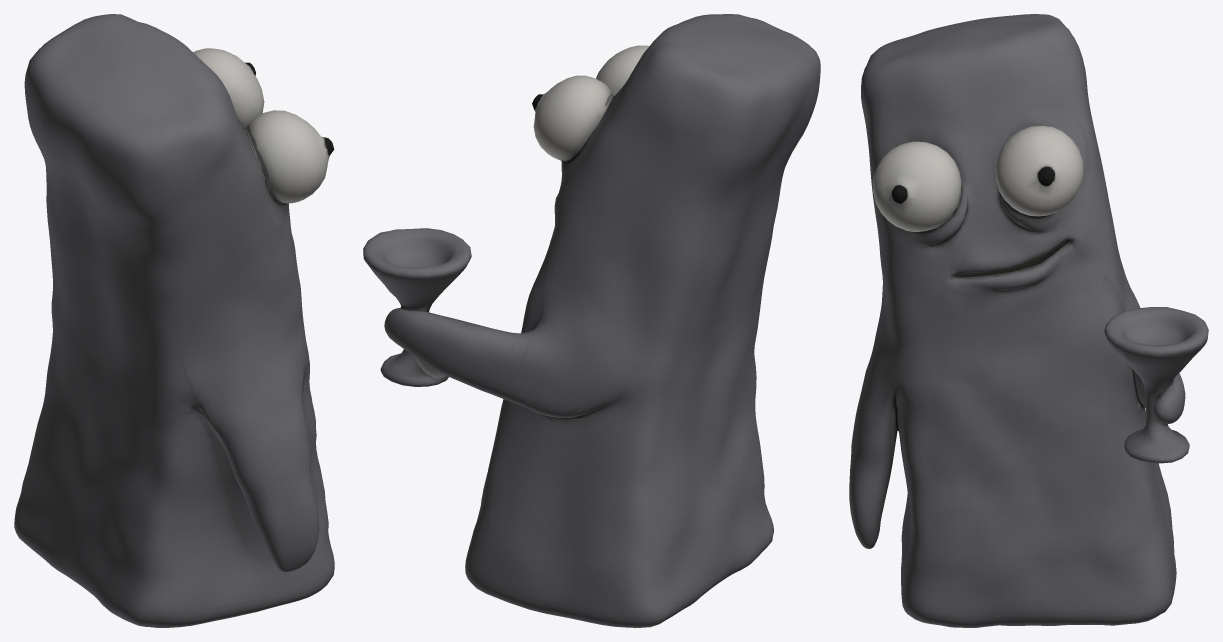
File: roger.glb
3 renders of one model, left to right at view 1: azimuth 30°, elevation 25°; view 2: azimuth 150°, elevation 25°; view 3: azimuth 270°, elevation 25°, orthographic. The views are drawn at different scales.
Parts seen in each view (by area): view 1: tripo_node_43e5d193; view 2: tripo_node_43e5d193; view 3: tripo_node_43e5d193.
Part boxes in pixels (<box>): tripo_node_43e5d193: <box>14,14,334,627</box>; tripo_node_43e5d193: <box>363,14,820,627</box>; tripo_node_43e5d193: <box>849,14,1208,627</box>.
Size of the model in its own units: 0.6515 by 0.9995 by 0.6134.
Materials: 1 (1 with a texture image).
